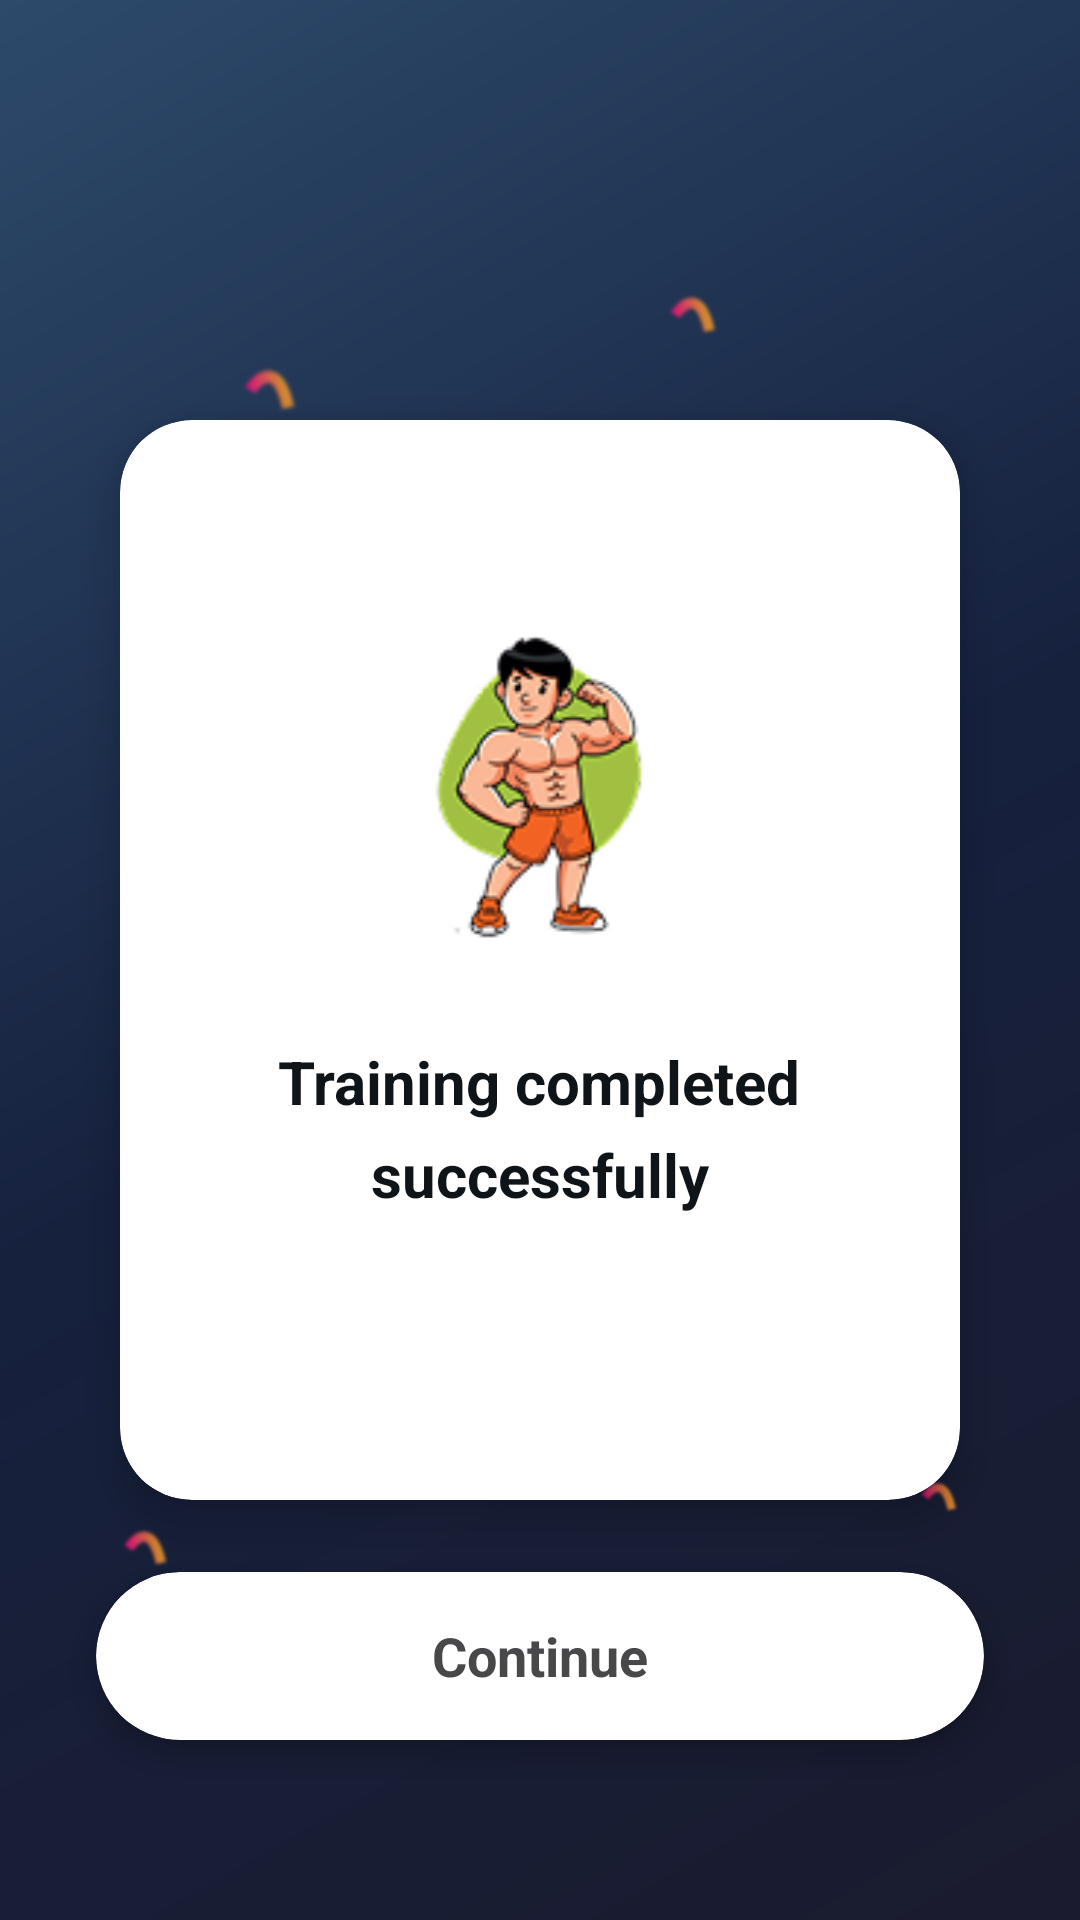

Icon click points for this 1080×1920 phone screenshot, format (x=x, y=y):
workout character celebration: (x=539, y=787)
